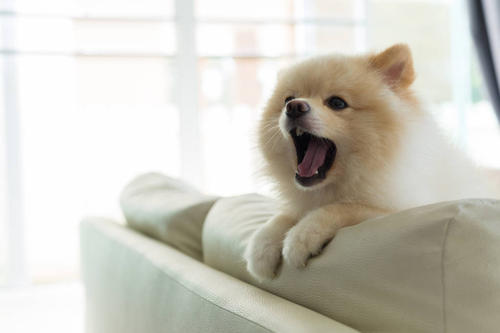dog: (229, 26, 427, 219)
